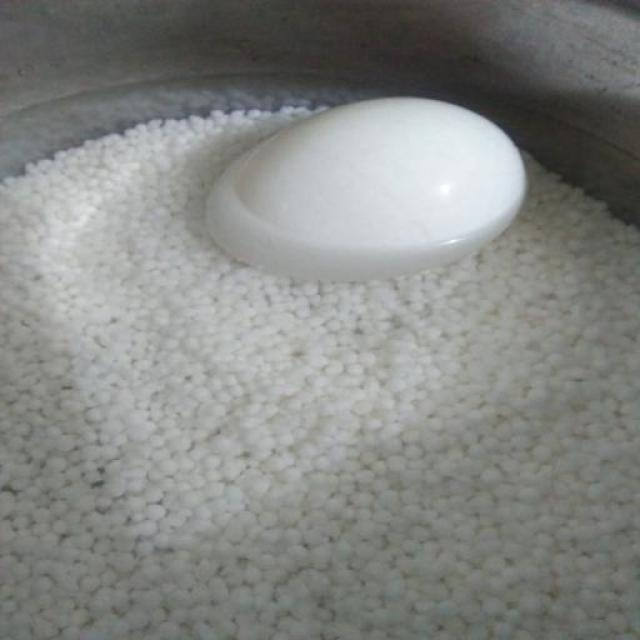telur: (203, 95, 531, 281)
